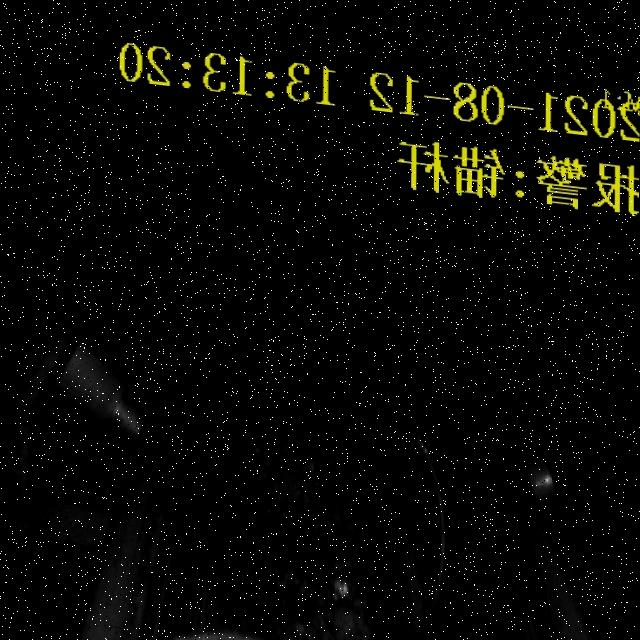bolt: (90, 350, 455, 640)
